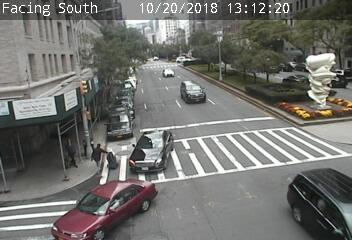car: (73, 182, 144, 236), (290, 180, 352, 235), (137, 134, 165, 168), (178, 83, 207, 100), (162, 68, 178, 77)
